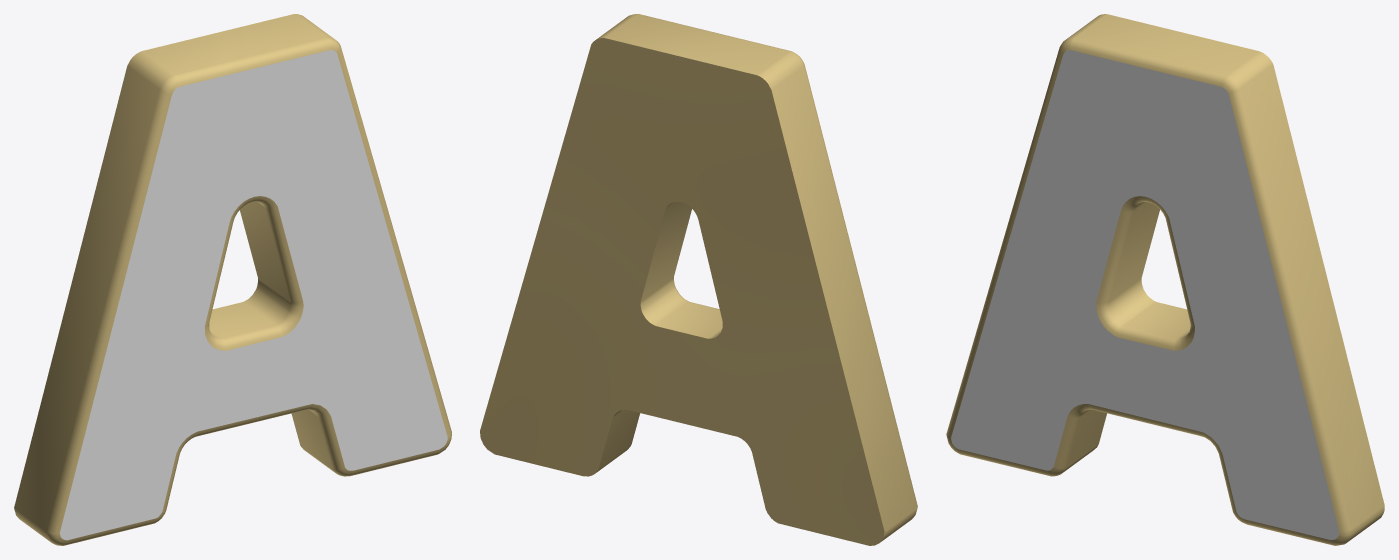
The model's file is LettersLightUp02_A.FBX.
3 views of the same model, side by side, from view 1: azimuth 30°, elevation 25°; view 2: azimuth 150°, elevation 25°; view 3: azimuth 330°, elevation 25° (orthographic).
Visible parts, largest first — view 1: LettersLightUp02_A; view 2: LettersLightUp02_A; view 3: LettersLightUp02_A.
Boxes of the visible parts, x1=… form: LettersLightUp02_A: x1=14, y1=14, x2=451, y2=545; LettersLightUp02_A: x1=480, y1=14, x2=917, y2=545; LettersLightUp02_A: x1=946, y1=14, x2=1384, y2=545.
Size of what is drawn, in the model's own units: 0.5727 by 0.5999 by 0.0912.
